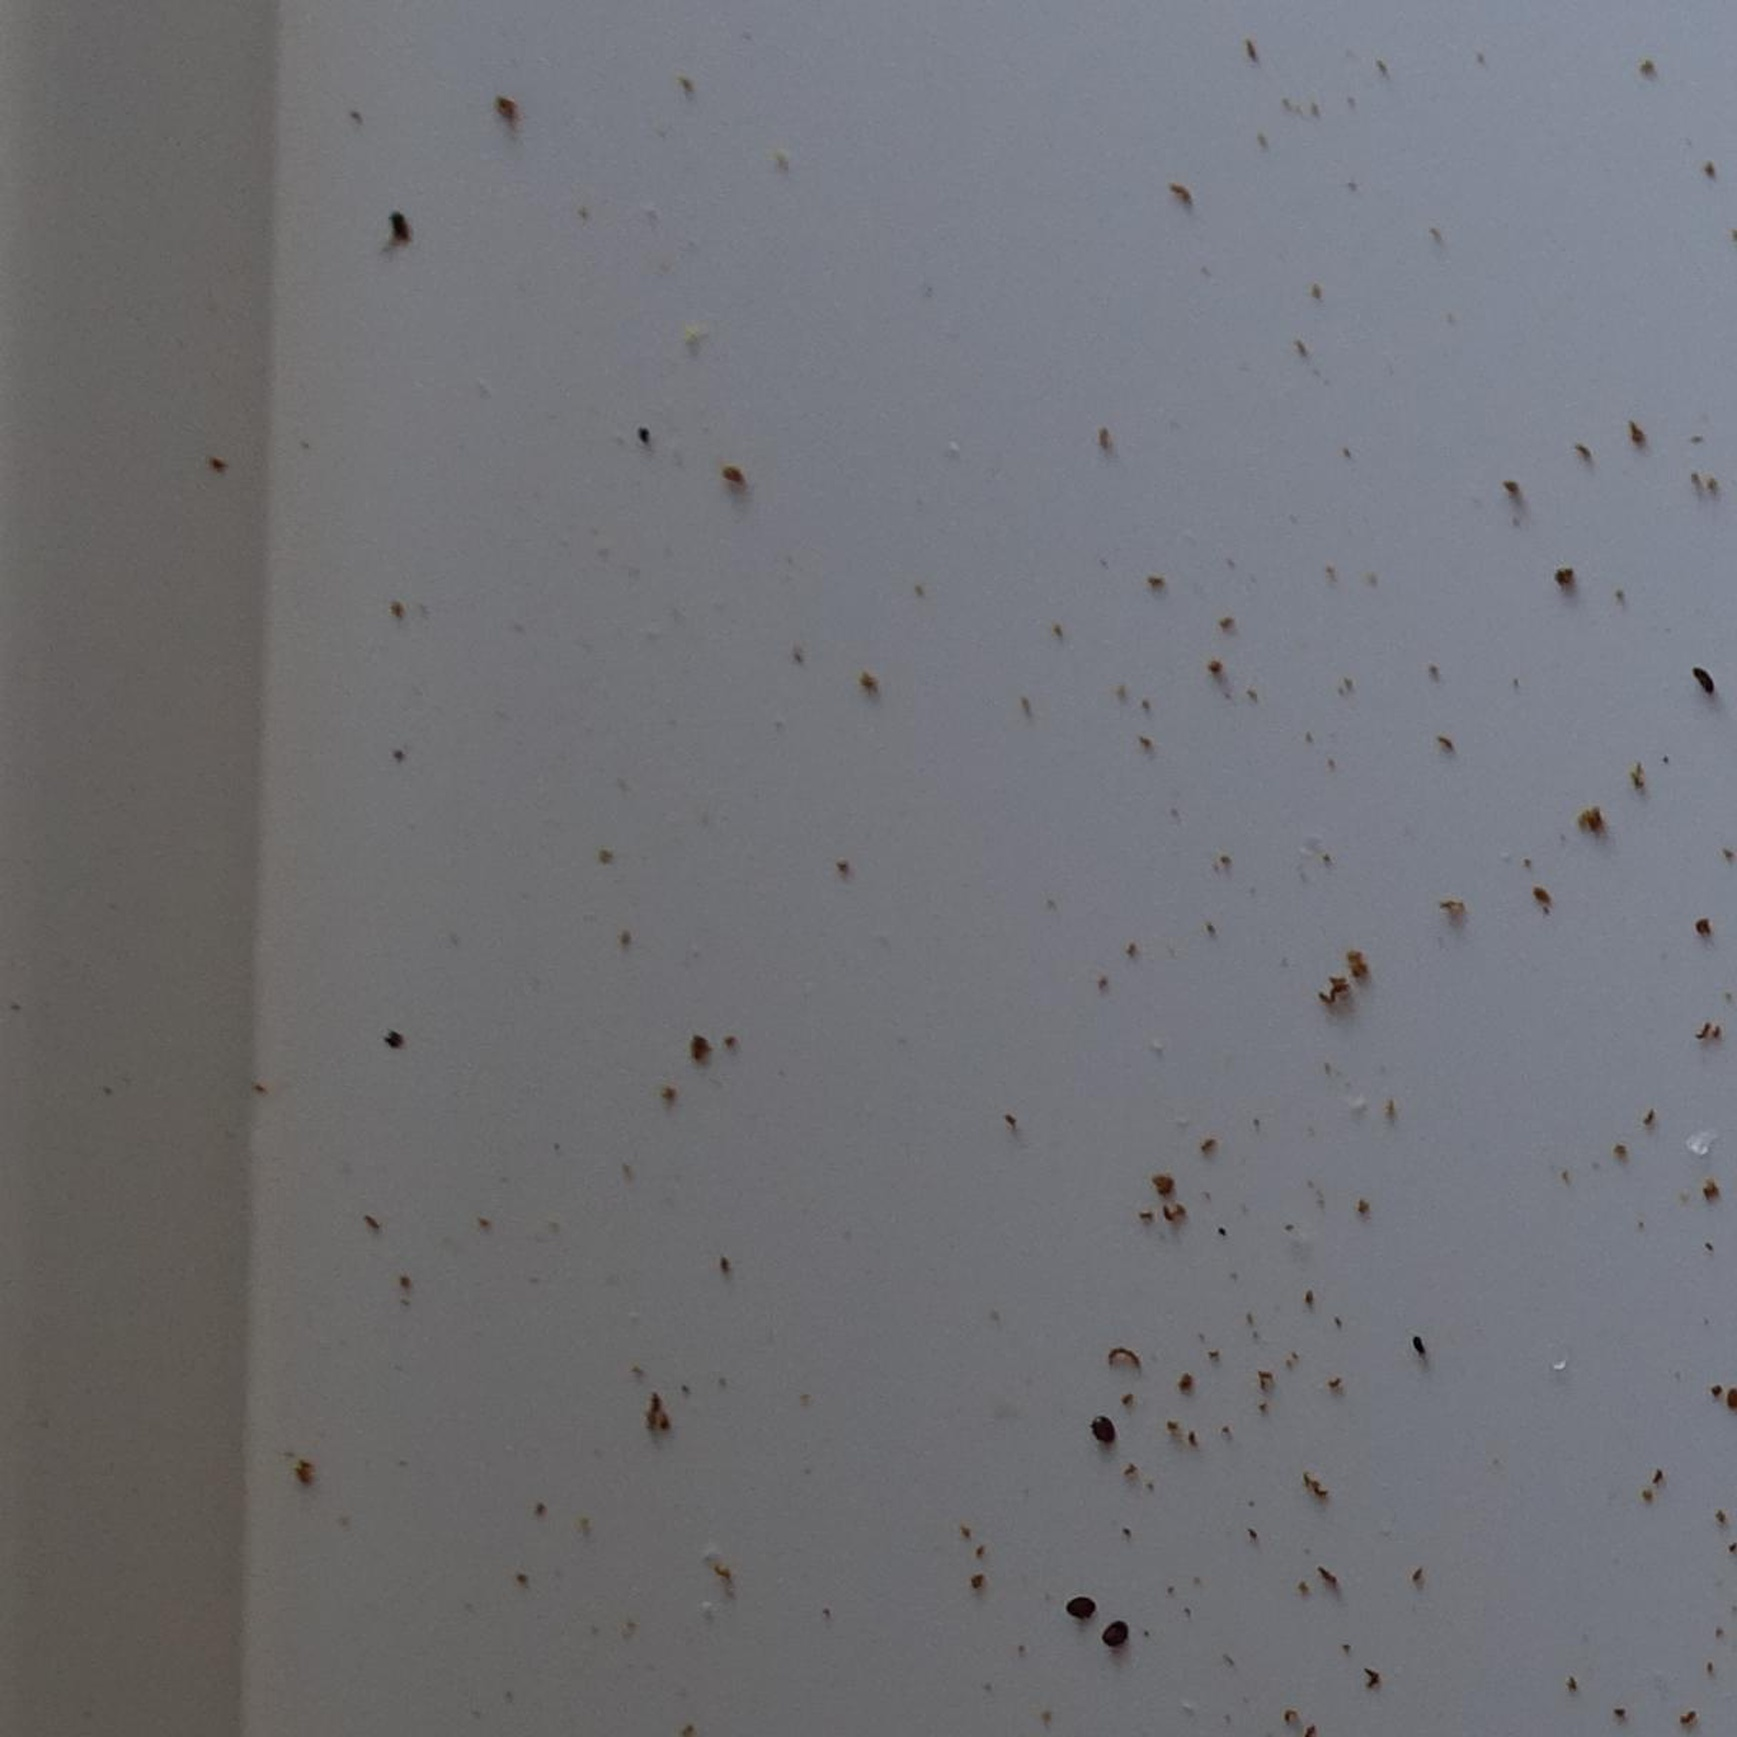Varroa: (1688, 657, 1720, 689), (1067, 1591, 1098, 1622), (1090, 1416, 1118, 1444), (1099, 1618, 1128, 1646)
